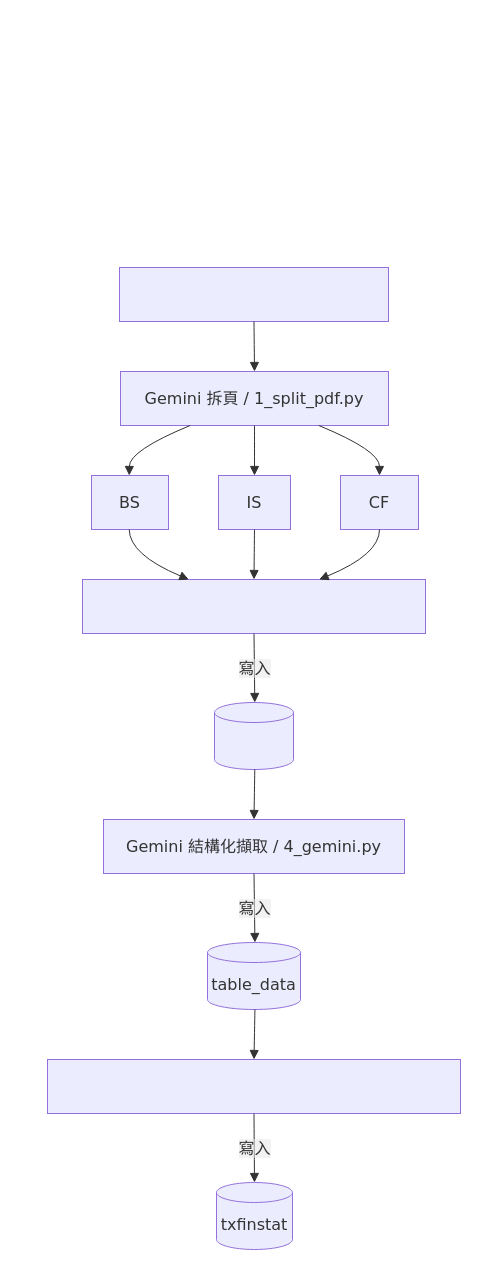
Image size: 478x1267. Some labels were removed from this diagram. Here are the shapes that lost their labels. From the top down, the centre of each, then its label:
At (x=253, y=294): "下載 PDF / download_pdf.sql".
At (x=254, y=606): "LlamaParse 原樣解析 / 2_pdf_to_sql.py".
At (x=254, y=736): "pdf_data".
At (x=253, y=1086): "欄位樞紐 / 配碼 / 衍生加總 / 3_run_sql_query.py".
